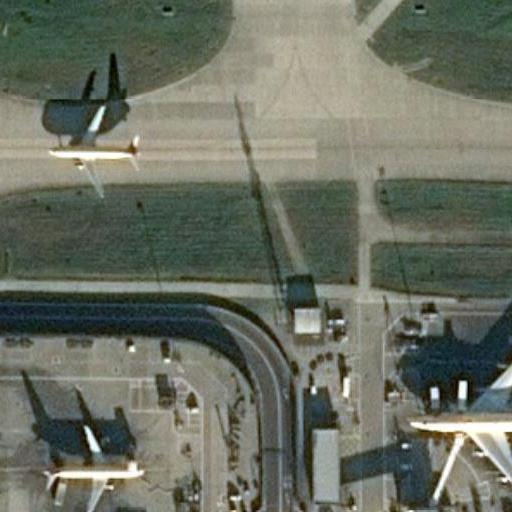Aircraft: (410, 334, 512, 511), (43, 423, 144, 512), (45, 102, 139, 194)
